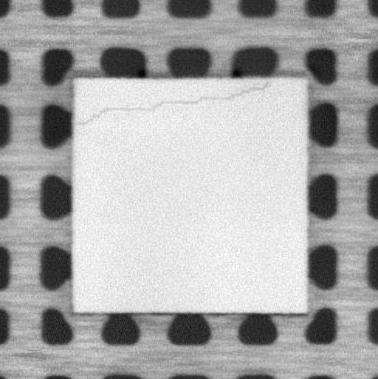DIE_CRACK: (81, 81, 271, 127)
